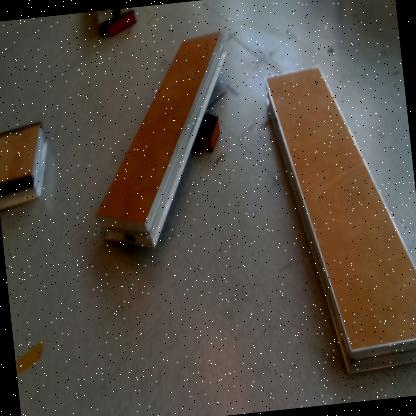Stairs: (263, 63, 416, 374), (96, 29, 230, 254), (1, 124, 49, 216), (94, 11, 137, 27)
